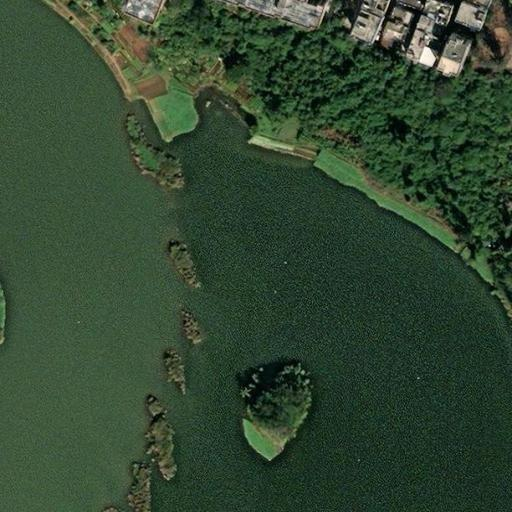building: (401, 17, 442, 66), (443, 44, 477, 81), (357, 14, 387, 48), (459, 6, 488, 33), (428, 2, 457, 23), (381, 23, 404, 44), (386, 6, 407, 29), (393, 0, 423, 12), (438, 19, 455, 31)
